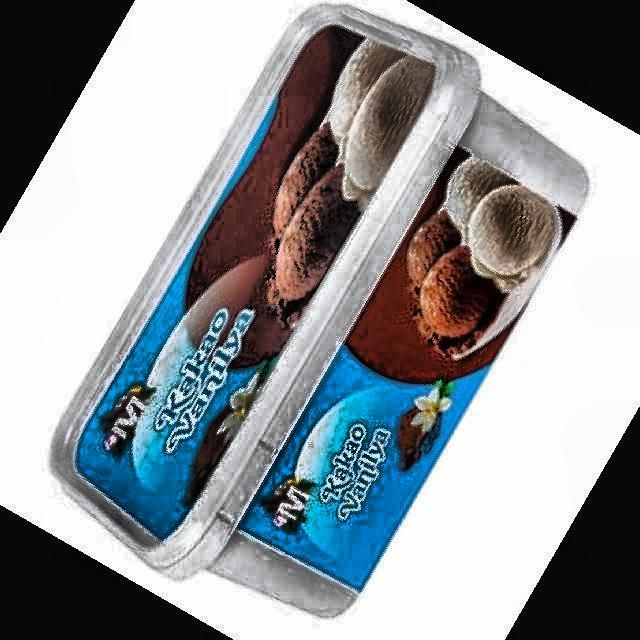plastic: (51, 4, 589, 614)
